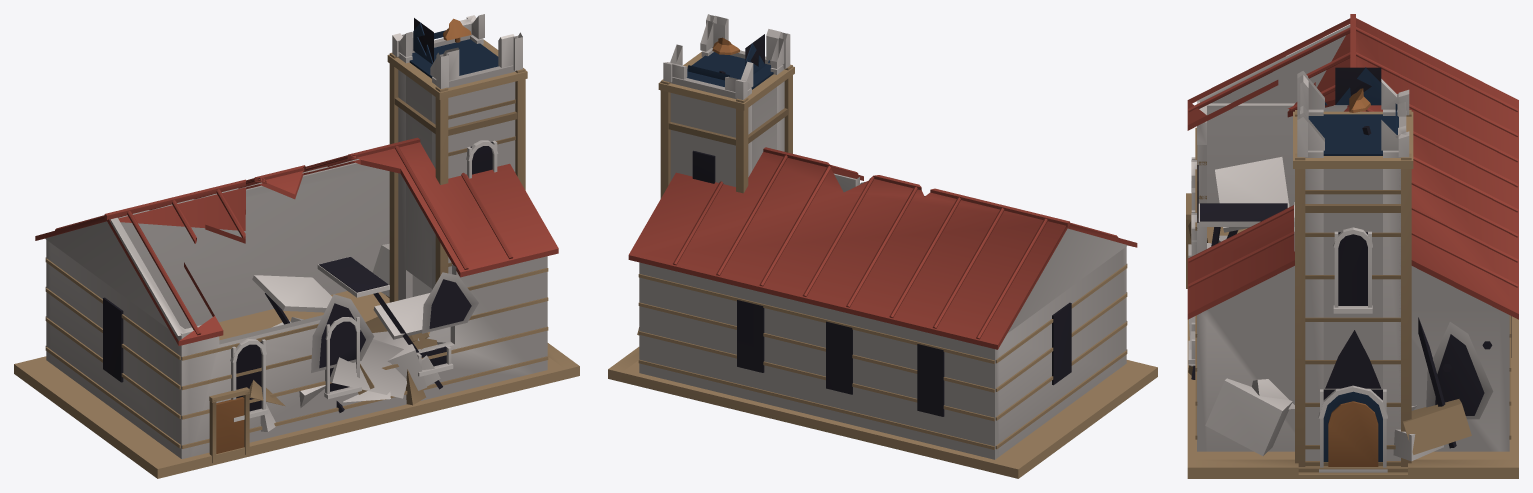
File: bld.church.w5.lod2.glb
The picture shows the model from 3 angles, left to right: view 1: azimuth 30°, elevation 25°; view 2: azimuth 150°, elevation 25°; view 3: azimuth 270°, elevation 25°; orthographic projection. The views are drawn at different scales.
Visible parts, largest first — view 1: body, roof; view 2: body, roof; view 3: body, roof, door_front.
Boxes of the visible parts, x1,y1,x2,y2 form: body: (14, 14, 579, 478); roof: (35, 137, 558, 345); body: (608, 14, 1157, 478); roof: (628, 147, 1137, 349); body: (1186, 24, 1518, 478); roof: (1187, 14, 1518, 319); door_front: (1328, 401, 1378, 466).
Bounding box in the file's own units: 18 × 12.9 × 10.65.
